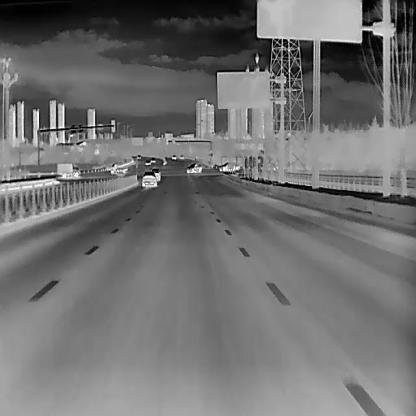car: (140, 171, 156, 187), (216, 161, 238, 171), (184, 162, 200, 172), (151, 168, 160, 180), (144, 159, 150, 164), (178, 154, 184, 158), (136, 154, 141, 158), (150, 157, 154, 162), (171, 154, 176, 158)
truck: (56, 163, 80, 177), (110, 162, 128, 174)
